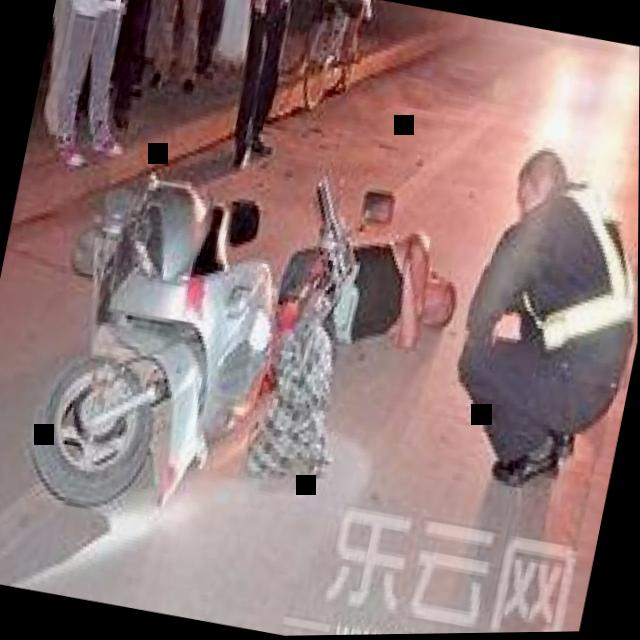Fall-Detected: (254, 172, 475, 386)
